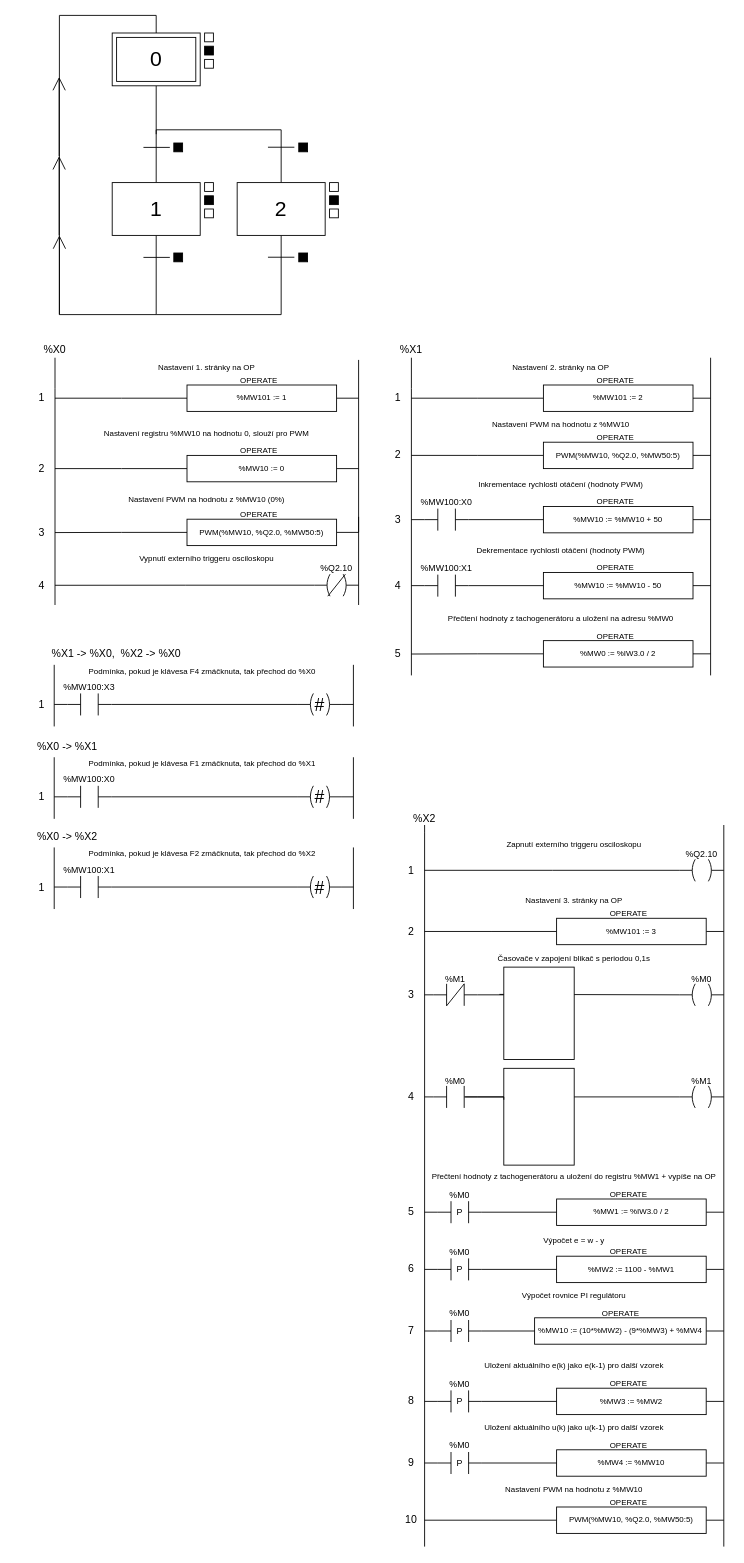
Image size: 744x1563. Some labels were removed from this diagram. The shapes that lost their labels are listed below. From the top down, each one's centre as x and y in pixels, then its label:
(538,1013): %TM0 IN Q TYPE TON TB 10 ms ADJ Y %TM0.P 5
(538,1116): %TM1 IN Q TYPE TON TB 10 ms ADJ Y %TM1.P 5
